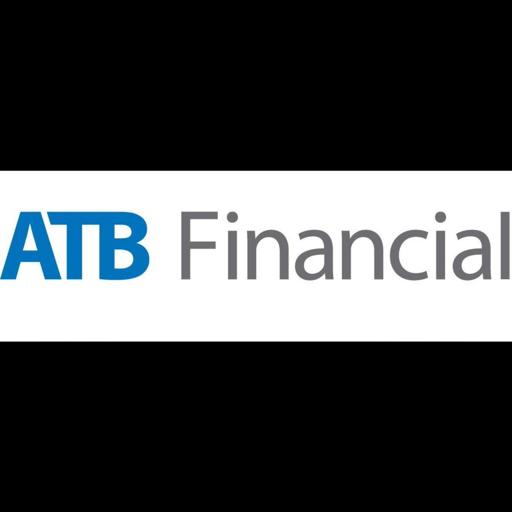ATB Financial: (0, 112, 512, 400)
